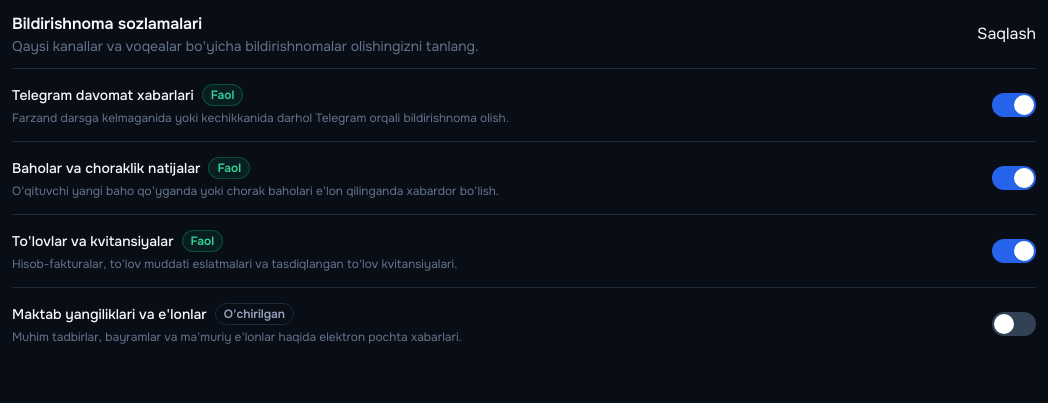
Test: NotificationPreferencesCard › toggles switch state and saves preferences on button click
This screenshot has width=1048, height=403.
Click the switch named "telegram davomat xabarlari".
click(1014, 105)  # box [992,83,1036,127]
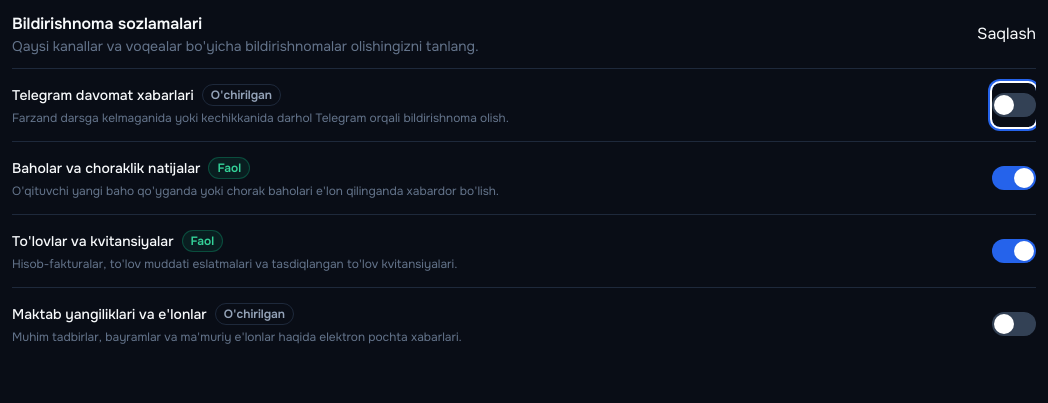
Check: the switch named "telegram davomat xabarlari" is not checked, box [992,83,1036,127]
Click the button "Saqlash".
click(1006, 34)  # box [977,22,1036,46]
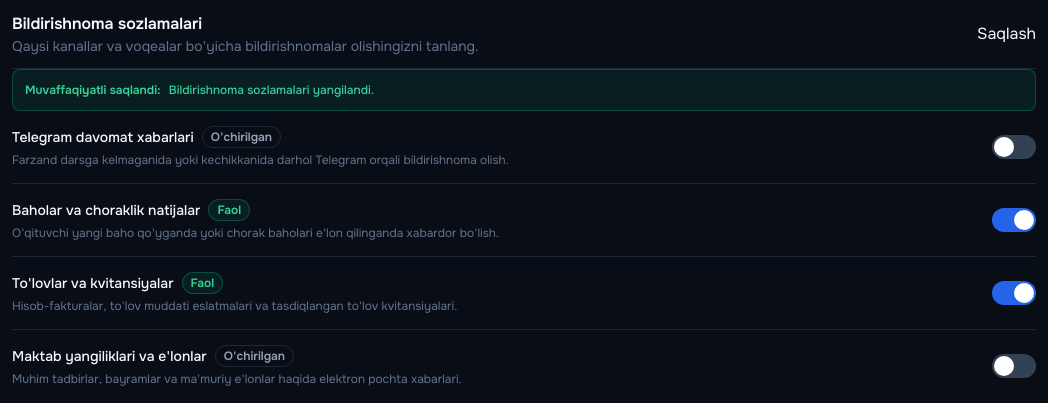
Check: the message shows "Muvaffaqiyatli saqlandi", box [25,82,161,98]
